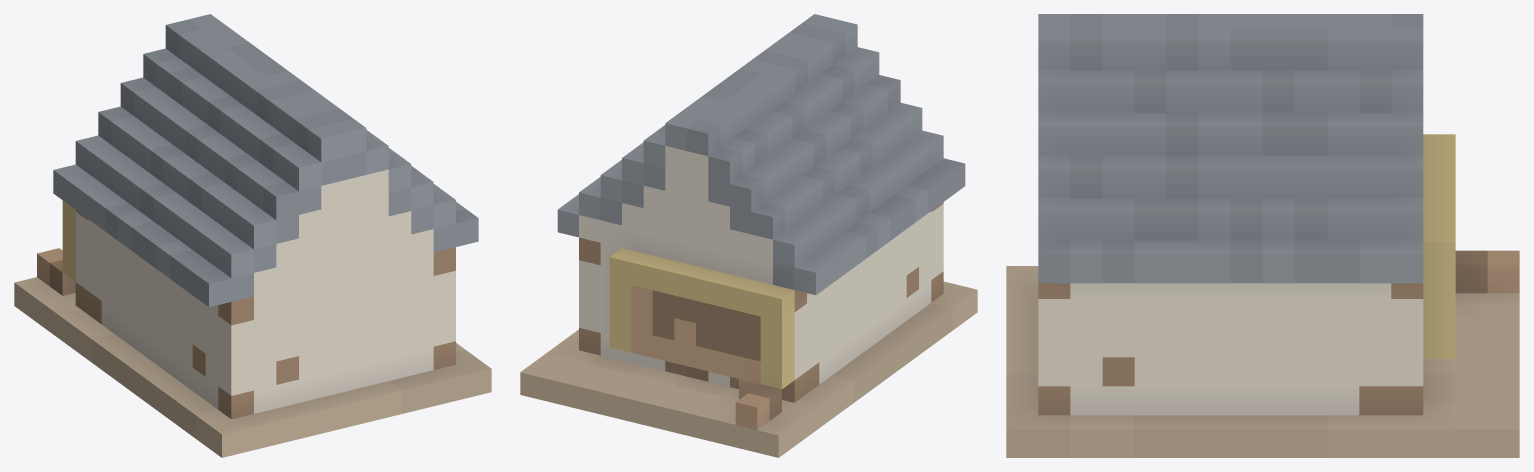
Rendered from hop_farm.lite.glb.
3 views of the same model, side by side, from view 1: azimuth 30°, elevation 25°; view 2: azimuth 150°, elevation 25°; view 3: azimuth 270°, elevation 25° (orthographic). The views are drawn at different scales.
Parts seen in each view (by area): view 1: hop_farm; view 2: hop_farm; view 3: hop_farm.
Boxes of the visible parts, x1=… form: hop_farm: x1=14, y1=14, x2=491, y2=457; hop_farm: x1=520, y1=14, x2=977, y2=457; hop_farm: x1=1006, y1=14, x2=1519, y2=457.
Size of the model in its own units: 3 by 3 by 4.
